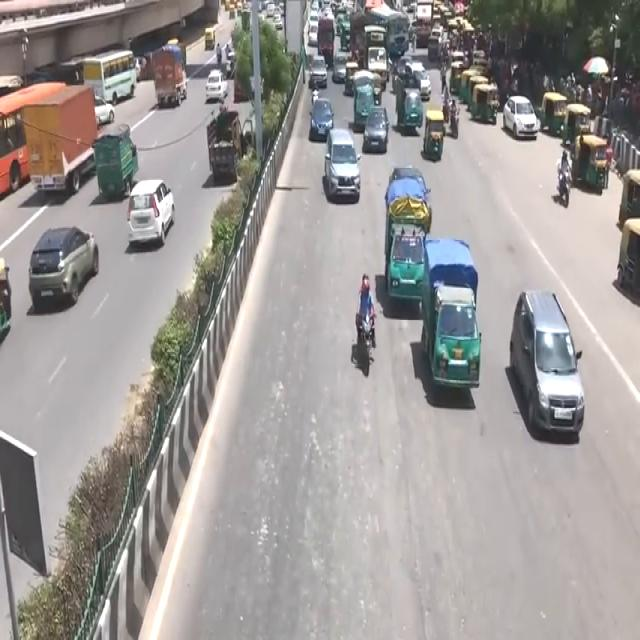MOTORCYCLE: (357, 315, 377, 379), (560, 172, 572, 209)
TRUCK: (423, 241, 479, 406), (384, 168, 428, 316)
